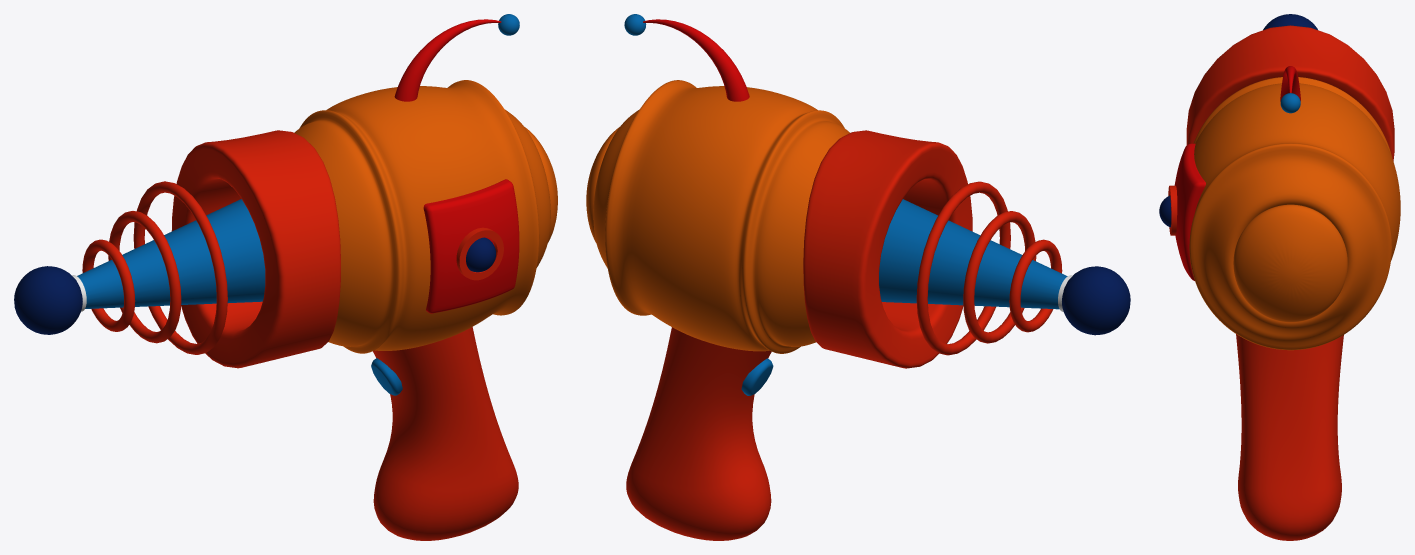
Rendered from space_gun.fbx.
The picture shows the model from 3 angles, left to right: view 1: azimuth 30°, elevation 25°; view 2: azimuth 150°, elevation 25°; view 3: azimuth 270°, elevation 25°; orthographic projection. The views are drawn at different scales.
Parts seen in each view (by area): view 1: Sphere002, Tube002, Capsule001, Cone001, ChamferBox001, Sphere001, Torus003, Torus002, Torus001, Cone002, Tube003, Sphere003 (+1 smaller); view 2: Sphere002, Tube002, Capsule001, Cone001, Sphere001, Torus003, Torus002, Torus001, Cone002, ChamferCyl001; view 3: Sphere002, Capsule001, Tube002, ChamferBox001, Sphere001, Cone002, Tube003, Sphere004, Sphere003.
Part boxes in pixels (left/top/right/bottom): Sphere002: left=294, top=80, right=557, bottom=353; Tube002: left=171, top=130, right=340, bottom=368; Capsule001: left=373, top=327, right=518, bottom=540; Cone001: left=77, top=199, right=265, bottom=308; ChamferBox001: left=423, top=179, right=519, bottom=313; Sphere001: left=14, top=266, right=82, bottom=334; Torus003: left=133, top=181, right=227, bottom=354; Torus002: left=108, top=211, right=181, bottom=343; Torus001: left=82, top=239, right=135, bottom=331; Cone002: left=394, top=19, right=501, bottom=101; Tube003: left=456, top=227, right=503, bottom=280; Sphere003: left=466, top=237, right=495, bottom=272; Sphere002: left=586, top=80, right=849, bottom=353; Tube002: left=803, top=130, right=972, bottom=368; Capsule001: left=626, top=327, right=771, bottom=540; Cone001: left=879, top=199, right=1067, bottom=309; Sphere001: left=1062, top=266, right=1130, bottom=335; Torus003: left=916, top=181, right=1010, bottom=355; Torus002: left=963, top=211, right=1036, bottom=343; Torus001: left=1009, top=239, right=1062, bottom=332; Cone002: left=643, top=19, right=749, bottom=101; ChamferCyl001: left=741, top=358, right=773, bottom=395; Sphere002: left=1189, top=77, right=1400, bottom=350; Capsule001: left=1236, top=334, right=1343, bottom=540; Tube002: left=1186, top=25, right=1394, bottom=161; ChamferBox001: left=1174, top=143, right=1205, bottom=280; Sphere001: left=1263, top=14, right=1317, bottom=30; Cone002: left=1280, top=66, right=1300, bottom=101; Tube003: left=1168, top=185, right=1177, bottom=235; Sphere004: left=1280, top=93, right=1300, bottom=113; Sphere003: left=1159, top=195, right=1171, bottom=227.
Size of the model in its own units: 165 by 150 by 69.89.
